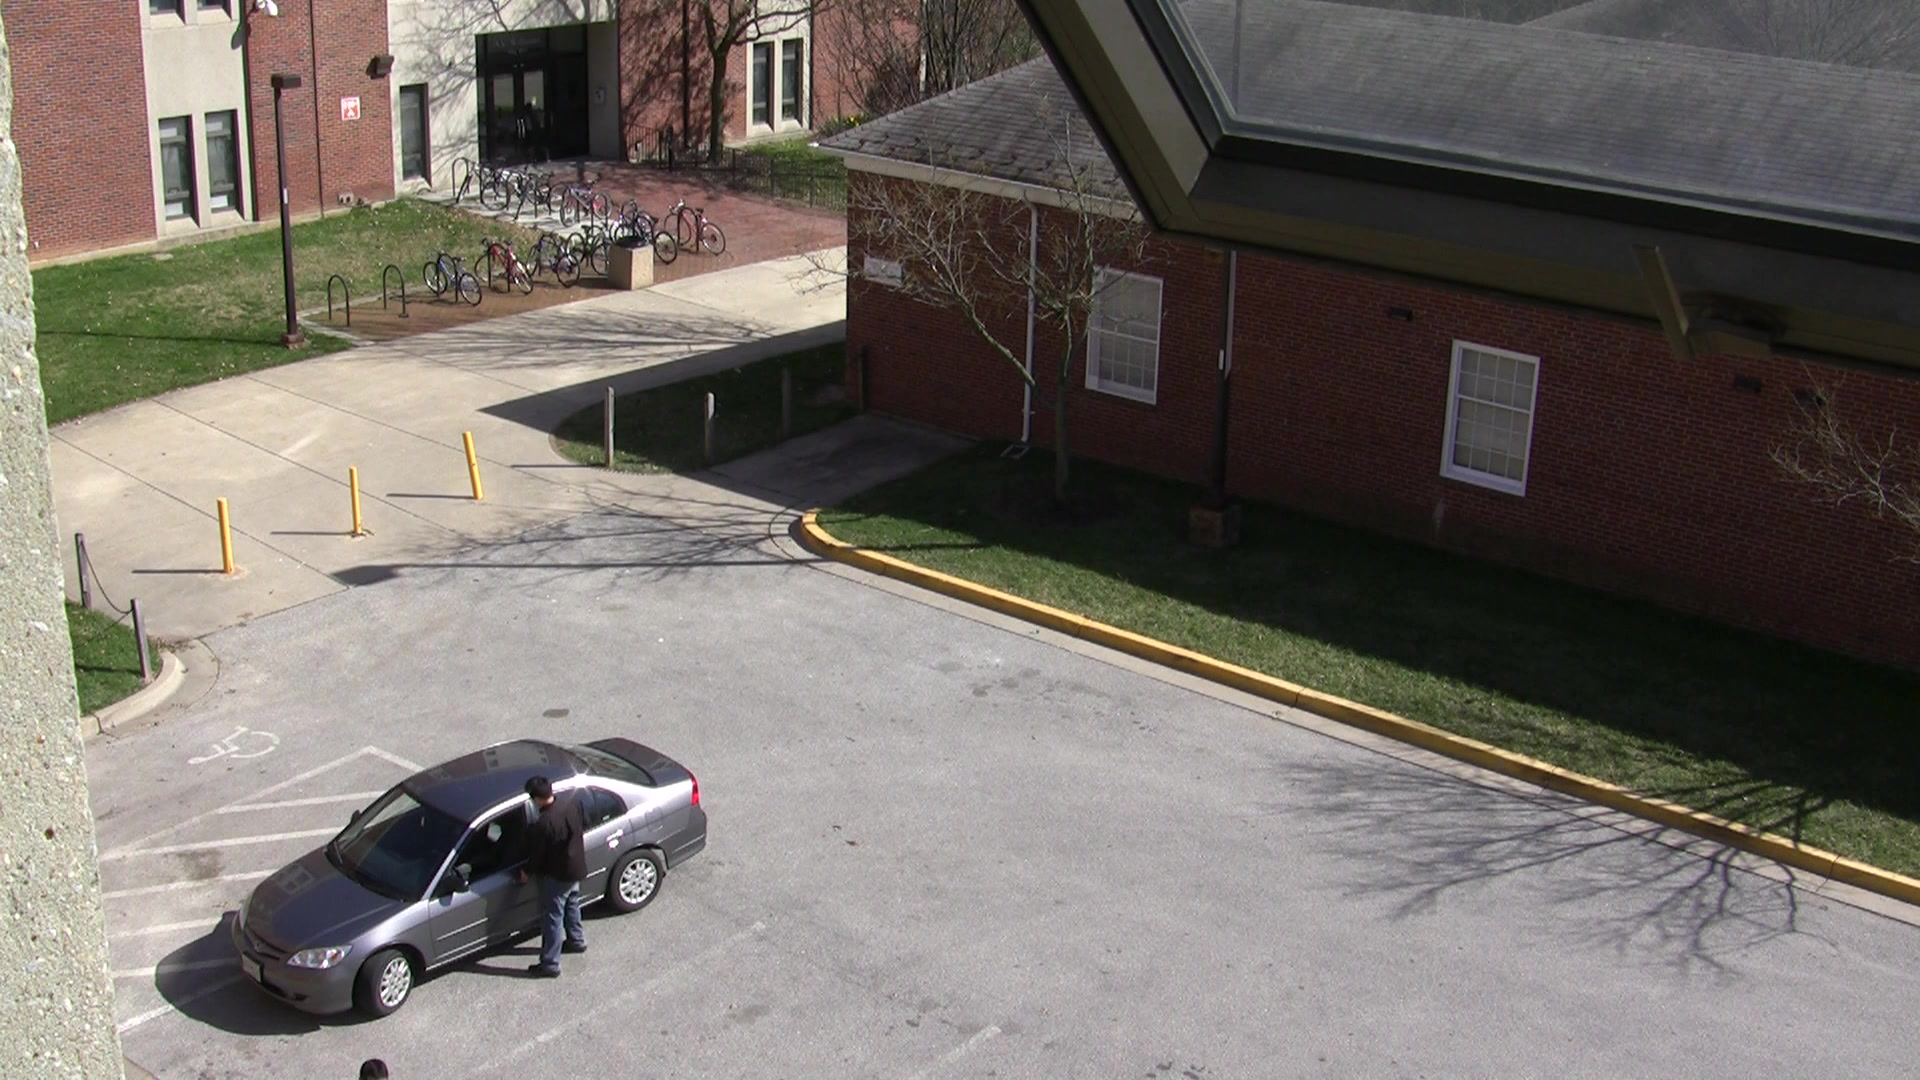person: (500, 765, 610, 984)
